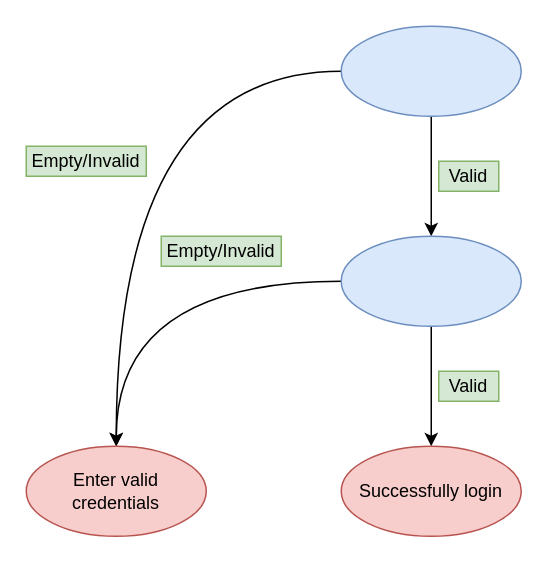
Some shapes in this 548 by 563 pixel diagram are drawn without their labels. Here are the shapes that lost their labels. From the top down, the box of each, then its label:
(340, 25, 521, 116): Email
(340, 235, 521, 326): Password
